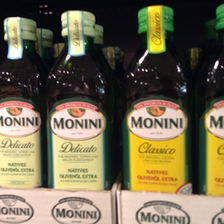oil: (116, 5, 195, 192), (47, 11, 112, 190), (1, 17, 46, 187)
